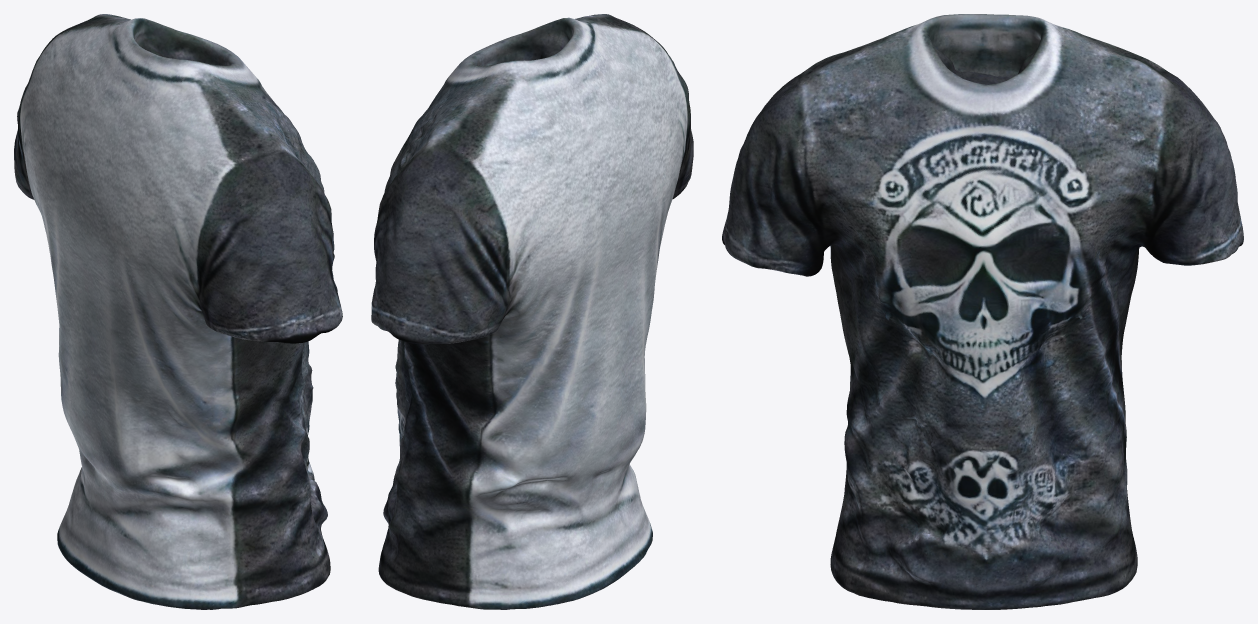
The model's file is blackskulltshirt.glb.
3 renders of one model, left to right at view 1: azimuth 30°, elevation 25°; view 2: azimuth 150°, elevation 25°; view 3: azimuth 270°, elevation 25°, orthographic.
Visible parts, largest first — view 1: high_poly; view 2: high_poly; view 3: high_poly.
Part boxes in pixels (left/top/right/bottom): high_poly: left=14, top=14, right=342, bottom=609; high_poly: left=371, top=14, right=693, bottom=609; high_poly: left=722, top=14, right=1243, bottom=609.
Bounding box in the file's own units: 0.4492 × 1 × 0.9016.
Materials: 1 (1 with a texture image).
